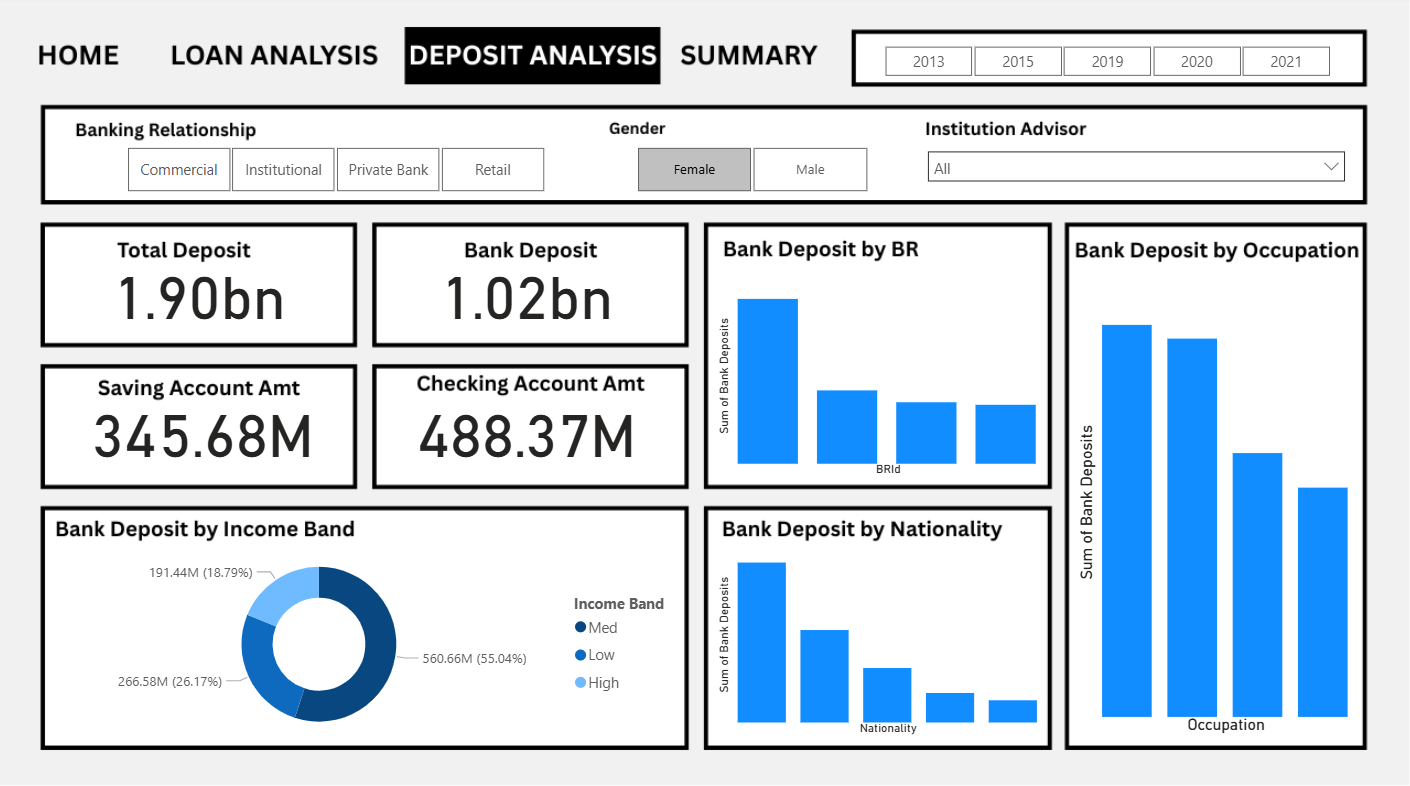

The dashboard page shown, as its layout file describes it:
{"tool":"powerbi","page":{"name":"Deposit Analysis","canvas":[1280,720],"ordinal":2},"visuals":[{"type":"actionButton","box":[25.6,31.4,100,39.5],"z":0},{"type":"actionButton","box":[146.5,31.4,200,39.5],"z":1000},{"type":"actionButton","box":[610.5,31.4,141.9,39.5],"z":2000},{"type":"slicer","fields":{"Values":["banking_case customer.BRId"]},"box":[90.7,131.4,427.9,53.5],"z":3000},{"type":"slicer","fields":{"Values":["banking_case customer.GenderId"]},"box":[553.5,131.4,258.1,53.5],"z":4000},{"type":"slicer","fields":{"Values":["banking_case customer.IAId"]},"box":[832.6,131.4,398.8,53.5],"z":5000},{"type":"card","fields":{"Values":["banking_case customer.Total Deposit"]},"box":[72.1,244.2,218.6,69.8],"z":6000},{"type":"card","fields":{"Values":["Sum(banking_case customer.Bank Deposits)"]},"box":[369.8,244.2,218.6,69.8],"z":7000},{"type":"card","fields":{"Values":["Sum(banking_case customer.Saving Accounts)"]},"box":[75.6,369.8,218.6,69.8],"z":8000},{"type":"card","fields":{"Values":["Sum(banking_case customer.Checking Accounts)"]},"box":[369.8,369.8,218.6,69.8],"z":9000},{"type":"donutChart","fields":{"Category":["banking_case customer.Income Band"],"Y":["Sum(banking_case customer.Bank Deposits)"]},"box":[54.7,494.2,572.1,189.5],"z":10000},{"type":"clusteredColumnChart","fields":{"Category":["banking_case customer.BRId"],"Y":["Sum(banking_case customer.Bank Deposits)"]},"box":[647.7,252.3,301.2,189.5],"z":11000},{"type":"clusteredColumnChart","fields":{"Category":["banking_case customer.Nationality"],"Y":["Sum(banking_case customer.Bank Deposits)"]},"box":[647.7,486,301.2,189.5],"z":12000},{"type":"clusteredColumnChart","fields":{"Category":["banking_case customer.Occupation"],"Y":["Sum(banking_case customer.Bank Deposits)"]},"box":[974.4,252.3,257,423.3],"z":13000},{"type":"slicer","fields":{"Values":["banking_case customer.Year of joining"]},"box":[777.9,39.5,453.5,38.4],"z":14000}]}

Visuals, with their boxes in screenshot pixels (x1, y1, x2, y2), scaled from the page's 1280x720 canvas onto the 1410x786 screenshot:
actionButton: x1=28 y1=34 x2=138 y2=77
actionButton: x1=161 y1=34 x2=382 y2=77
actionButton: x1=673 y1=34 x2=829 y2=77
slicer - banking_case customer.BRId: x1=100 y1=143 x2=571 y2=202
slicer - banking_case customer.GenderId: x1=610 y1=143 x2=894 y2=202
slicer - banking_case customer.IAId: x1=917 y1=143 x2=1356 y2=202
card - banking_case customer.Total Deposit: x1=79 y1=267 x2=320 y2=343
card - Sum(banking_case customer.Bank Deposits): x1=407 y1=267 x2=648 y2=343
card - Sum(banking_case customer.Saving Accounts): x1=83 y1=404 x2=324 y2=480
card - Sum(banking_case customer.Checking Accounts): x1=407 y1=404 x2=648 y2=480
donutChart - banking_case customer.Income Band x Sum(banking_case customer.Bank Deposits): x1=60 y1=540 x2=690 y2=746
clusteredColumnChart - banking_case customer.BRId x Sum(banking_case customer.Bank Deposits): x1=713 y1=275 x2=1045 y2=482
clusteredColumnChart - banking_case customer.Nationality x Sum(banking_case customer.Bank Deposits): x1=713 y1=531 x2=1045 y2=737
clusteredColumnChart - banking_case customer.Occupation x Sum(banking_case customer.Bank Deposits): x1=1073 y1=275 x2=1356 y2=738
slicer - banking_case customer.Year of joining: x1=857 y1=43 x2=1356 y2=85
